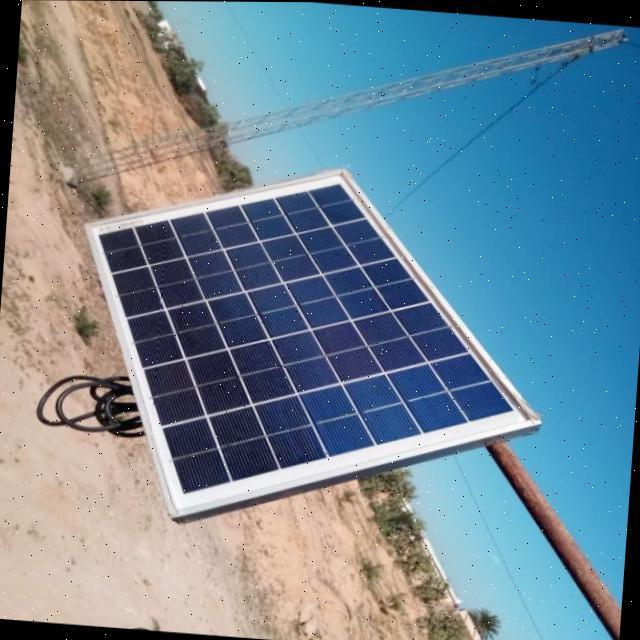Normal Solar Panel: (67, 148, 550, 544)
